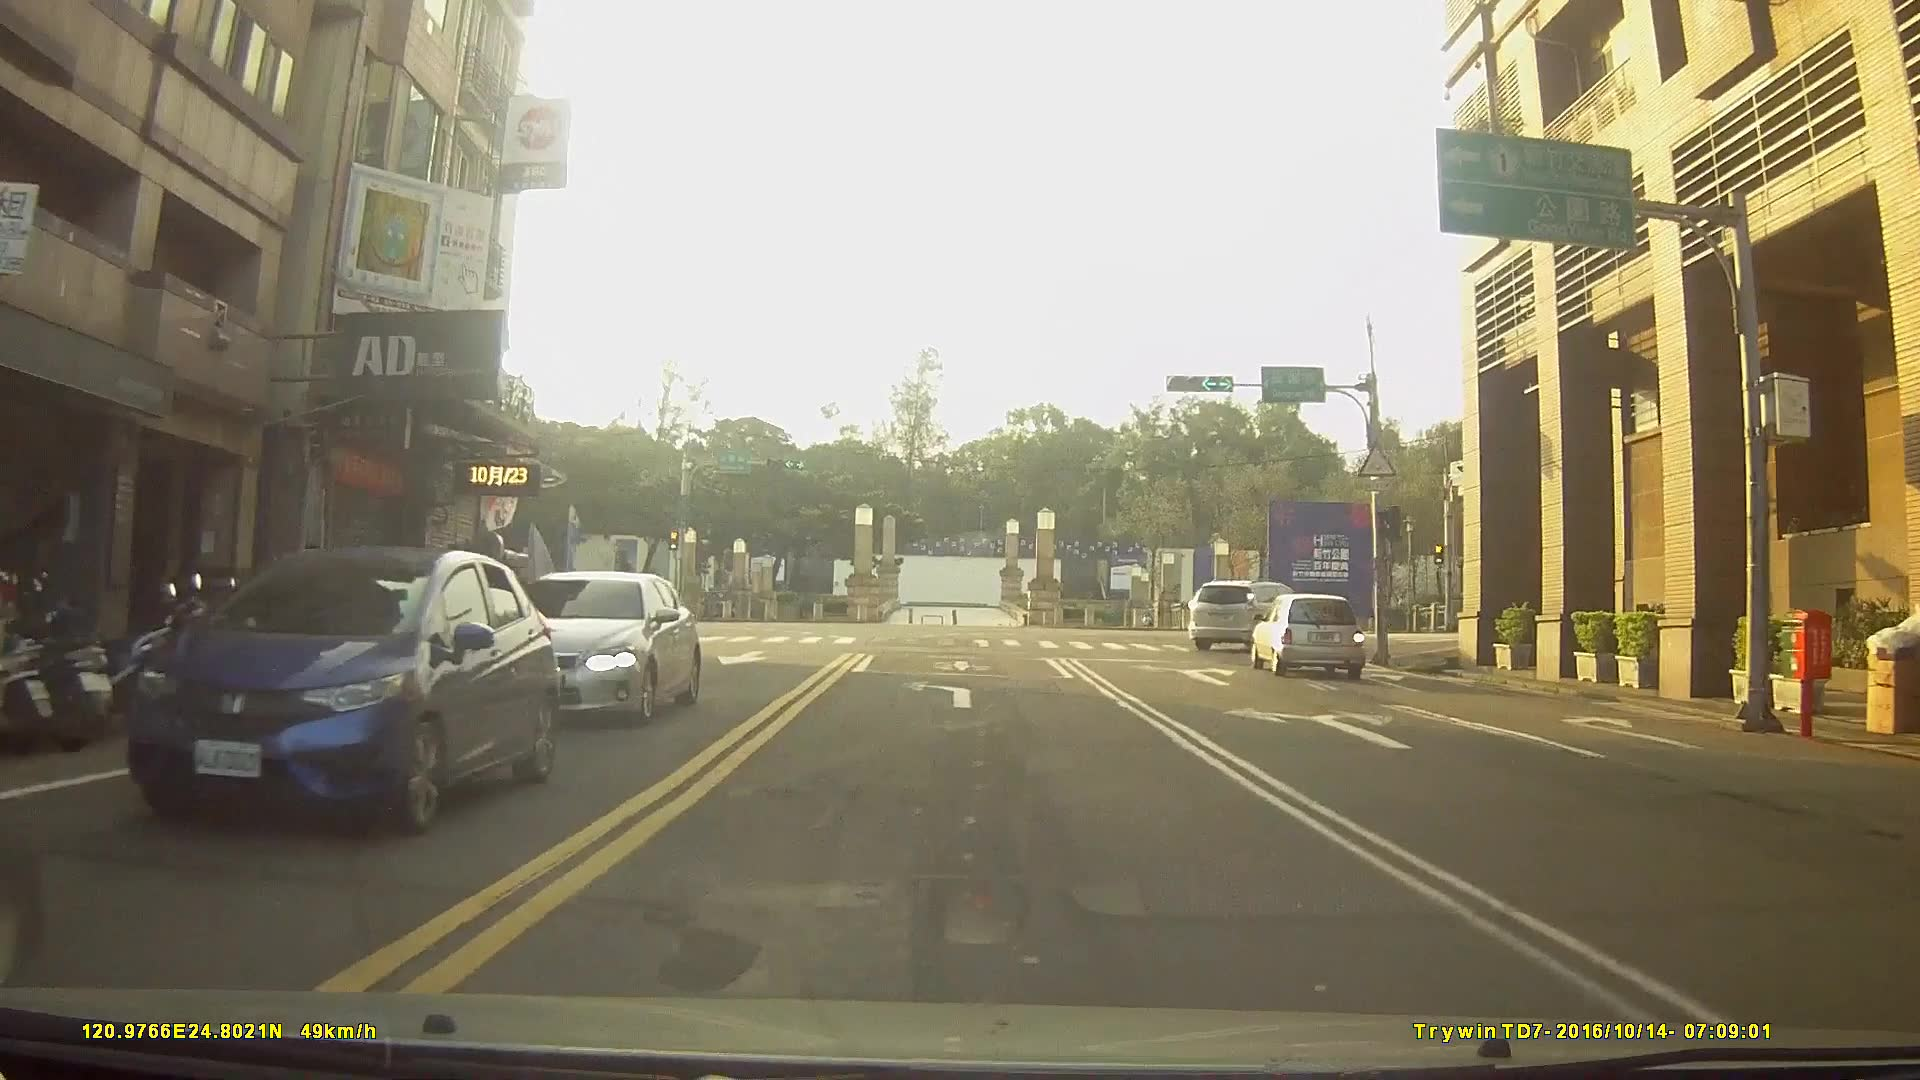vehicle: (121, 541, 556, 837), (488, 572, 699, 727), (1250, 591, 1364, 675), (1187, 579, 1313, 651)
